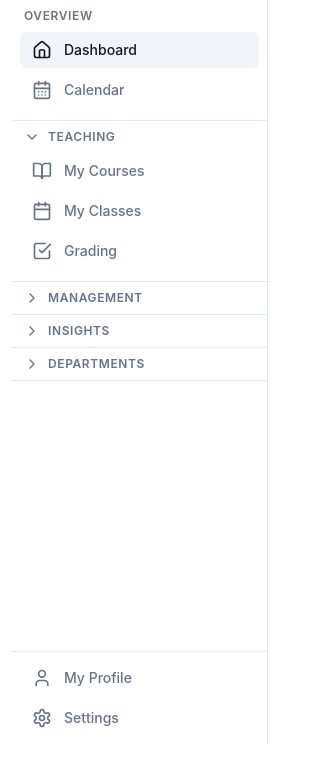
Test: Sidebar Component - Section-Based Navigation › Departments Section › should show department list when Departments section is expanded
Click Departments section to expand
What coordinates should you click on to do the following:
click the button "Departments"
I would click on:
 (140, 364)
Its box is [12,348,267,380].
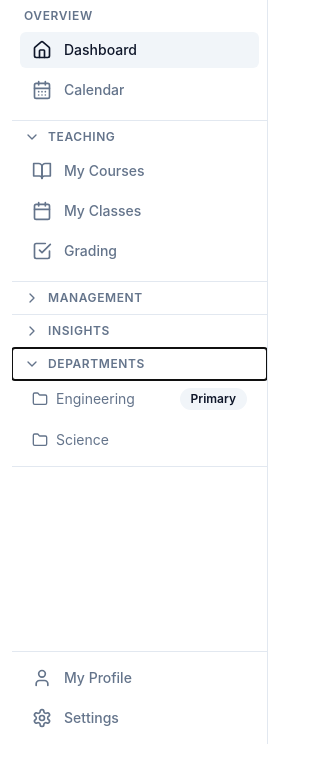
Expected: the text "Engineering" is shown, [56,390,135,407]
Expected: the text "Science" is shown, [56,431,109,448]
